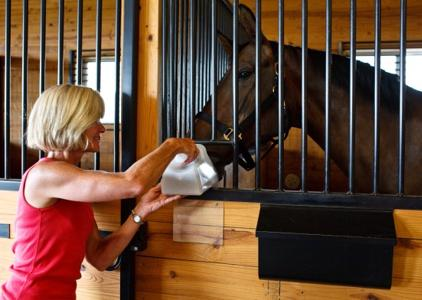person: (7, 86, 200, 299)
